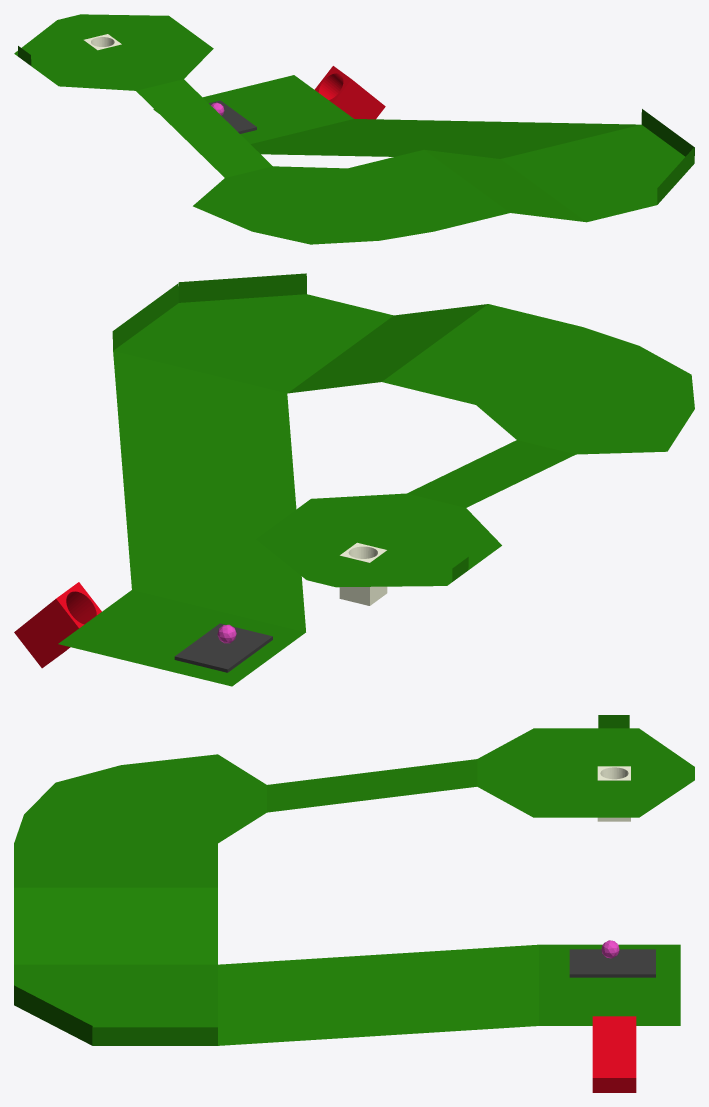
Rendered from boilerplate_level_6.glb.
3 views of the same model, one above another, from view 1: azimuth 30°, elevation 25°; view 2: azimuth 150°, elevation 25°; view 3: azimuth 270°, elevation 25° (orthographic). The views are drawn at different scales.
Parts seen in each view (by area): view 1: Plane, Cannon, Start, Cup; view 2: Plane, Cannon, Start, Cup; view 3: Plane, Cannon, Start, Cup.
Boxes of the visible parts, x1=… form: Plane: x1=14, y1=14, x2=694, y2=244; Cannon: x1=314, y1=66, x2=385, y2=119; Start: x1=209, y1=100, x2=256, y2=133; Cup: x1=84, y1=34, x2=121, y2=50; Plane: x1=58, y1=273, x2=694, y2=686; Cannon: x1=14, y1=582, x2=101, y2=668; Start: x1=174, y1=623, x2=272, y2=672; Cup: x1=339, y1=542, x2=387, y2=605; Plane: x1=14, y1=715, x2=694, y2=1045; Cannon: x1=592, y1=1016, x2=636, y2=1092; Start: x1=569, y1=949, x2=655, y2=977; Cup: x1=597, y1=766, x2=630, y2=821.
Bounding box in the file's own units: 55.96 × 18.95 × 62.2.
